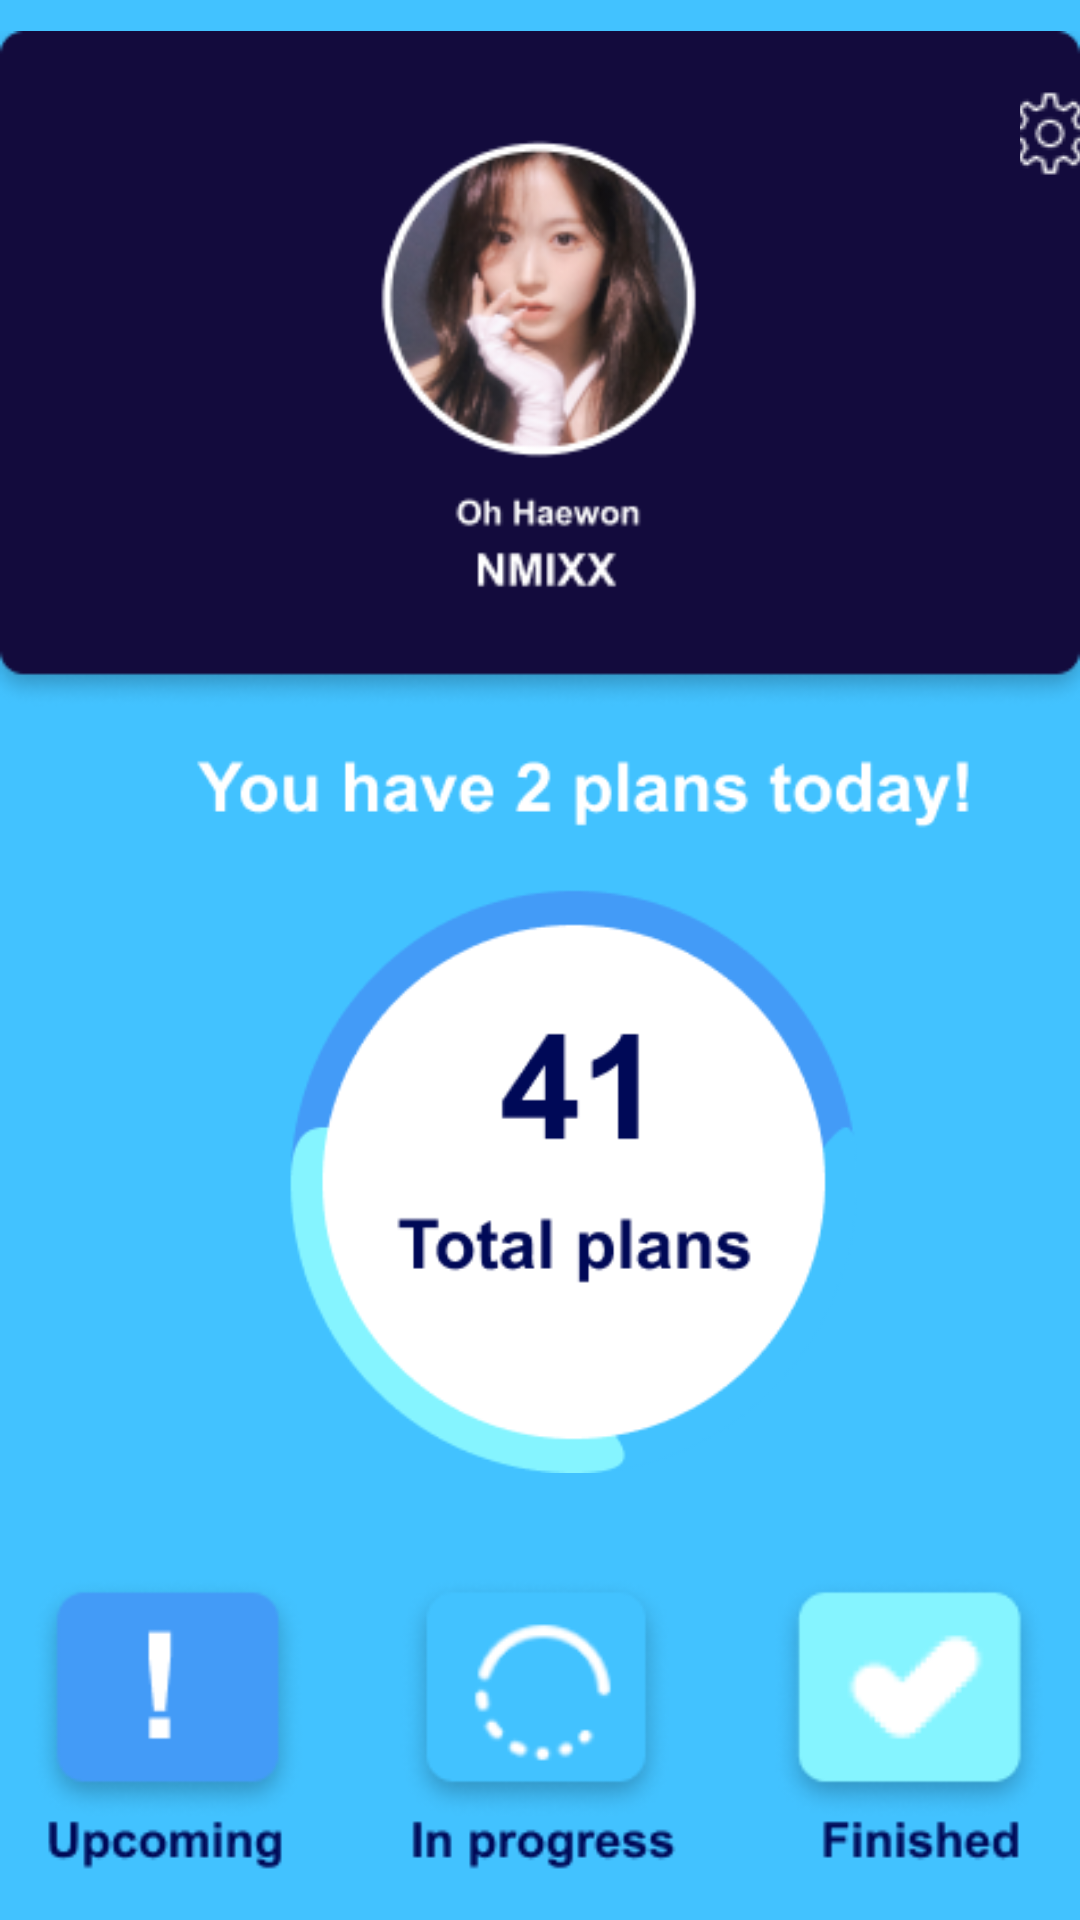

Screen size 1080*1920. Icon name, then its center in pixels as (x,y):
settingsicon: (1050,133)
